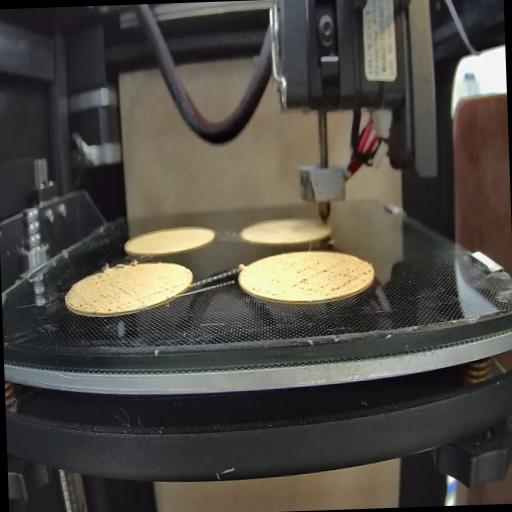under_extrusion: (290, 256, 372, 296), (77, 276, 133, 310), (143, 280, 185, 302), (245, 280, 280, 302)
